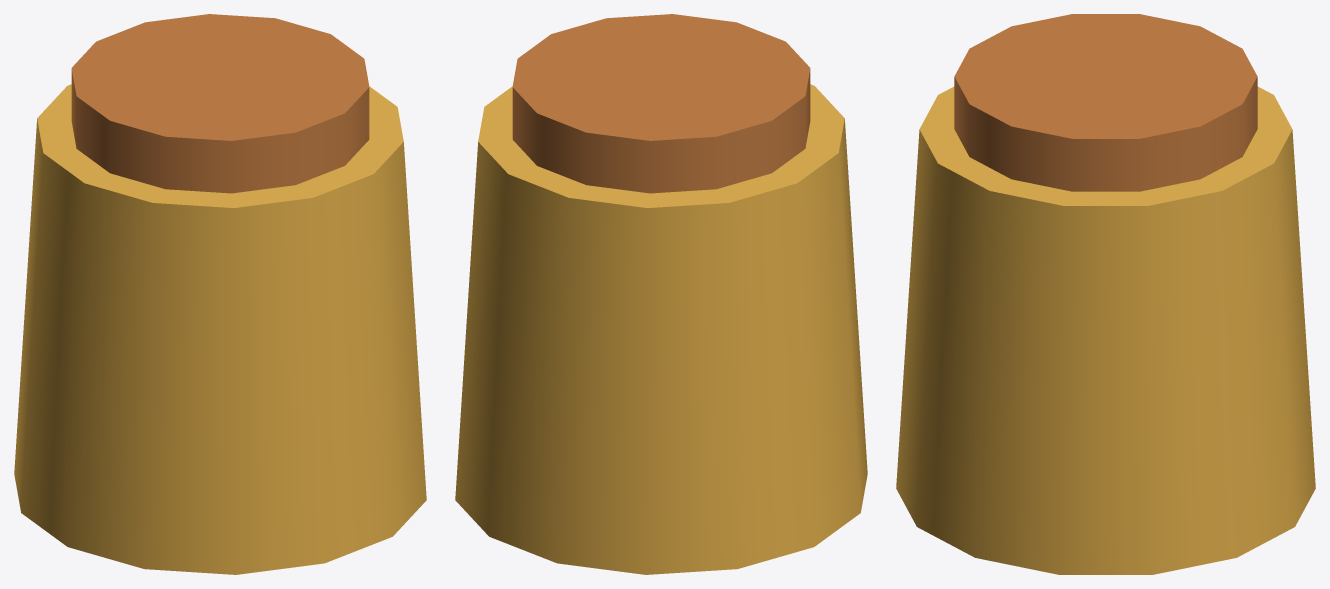
The model's file is honey-jar.glb.
The picture shows the model from 3 angles, left to right: view 1: azimuth 30°, elevation 25°; view 2: azimuth 150°, elevation 25°; view 3: azimuth 270°, elevation 25°; orthographic projection.
Size of the model in its own units: 0.351 by 0.39 by 0.36.
